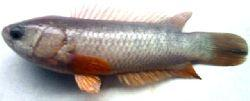Climbing Perch: (2, 5, 249, 95)
